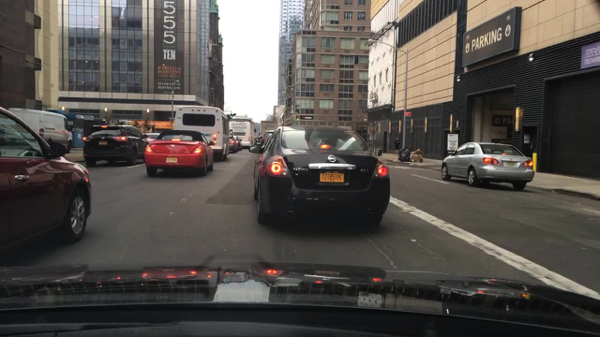car: (0, 103, 93, 266), (251, 126, 391, 225), (440, 141, 535, 191), (143, 129, 215, 177), (172, 106, 228, 160), (10, 108, 74, 154), (83, 125, 96, 168), (257, 131, 274, 147), (140, 133, 162, 145), (229, 137, 242, 152)
person: (393, 137, 401, 156)
traffic light: (293, 113, 299, 121), (228, 113, 233, 120)
traffic sign: (404, 112, 411, 118)
truck: (228, 119, 256, 147), (260, 120, 277, 137)
